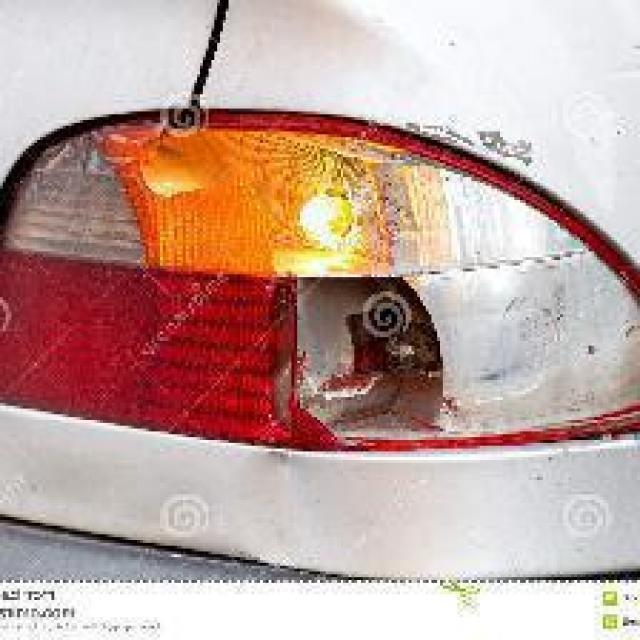damaged: (268, 271, 466, 463)
